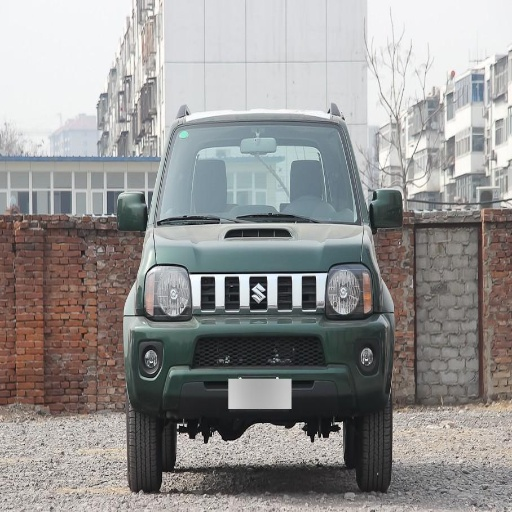front_bumper: (124, 272, 389, 413)
front_right_light: (136, 265, 190, 319)
hood: (155, 224, 364, 272)
left_mirror: (370, 189, 405, 228)
